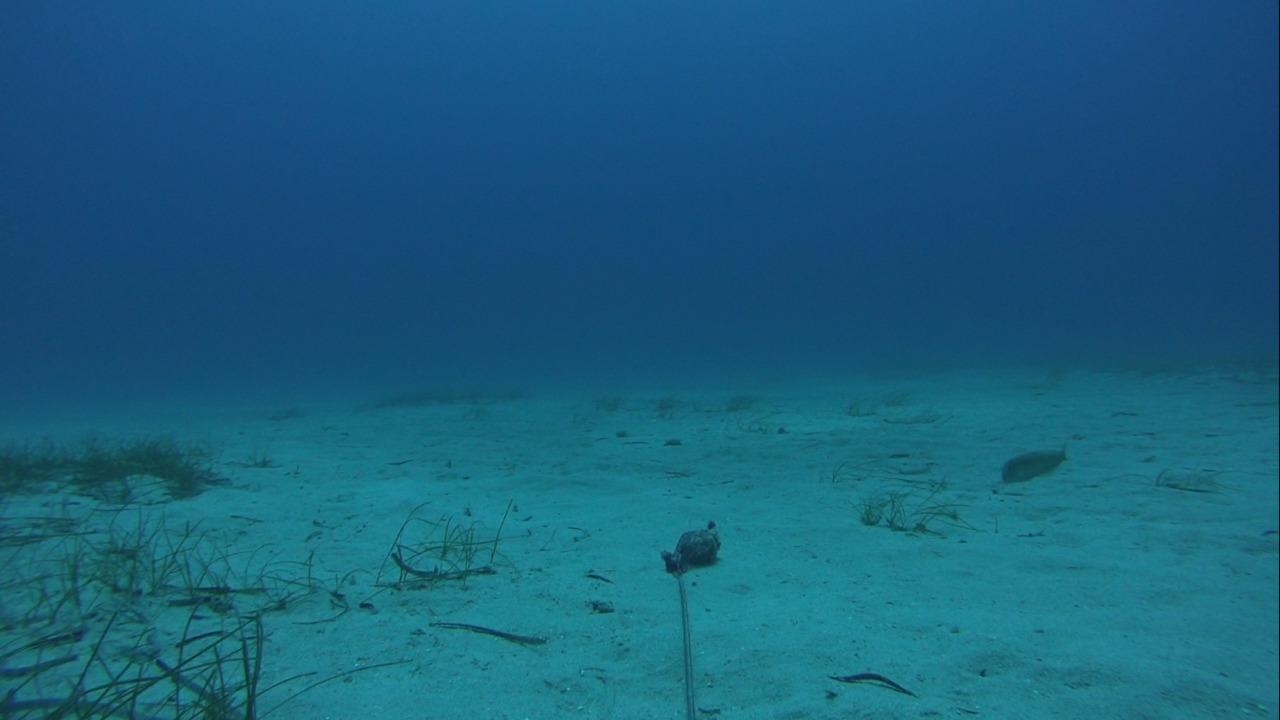raor: (997, 442, 1072, 485)
